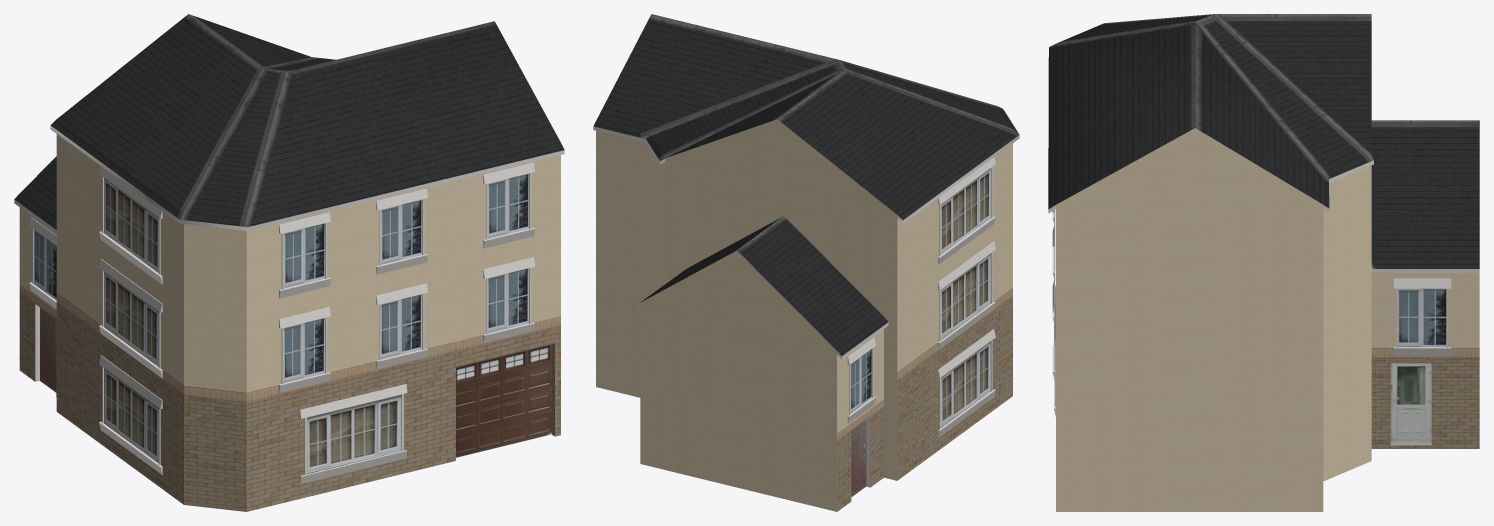
The model's file is terracedcorner3story1bm.FBX.
3 views of the same model, side by side, from view 1: azimuth 30°, elevation 25°; view 2: azimuth 150°, elevation 25°; view 3: azimuth 270°, elevation 25° (orthographic). The views are drawn at different scales.
Visible parts, largest first — view 1: Box004; view 2: Box004; view 3: Box004.
Part boxes in pixels (x1,y1,x2,y2): Box004: (14, 14, 564, 511); Box004: (593, 14, 1019, 511); Box004: (1048, 14, 1479, 511).
Size of the model in its own units: 1297 by 1258 by 1281.
